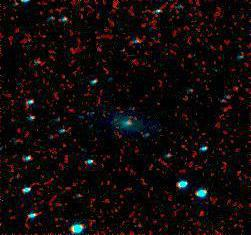star: (223, 74, 251, 104)
